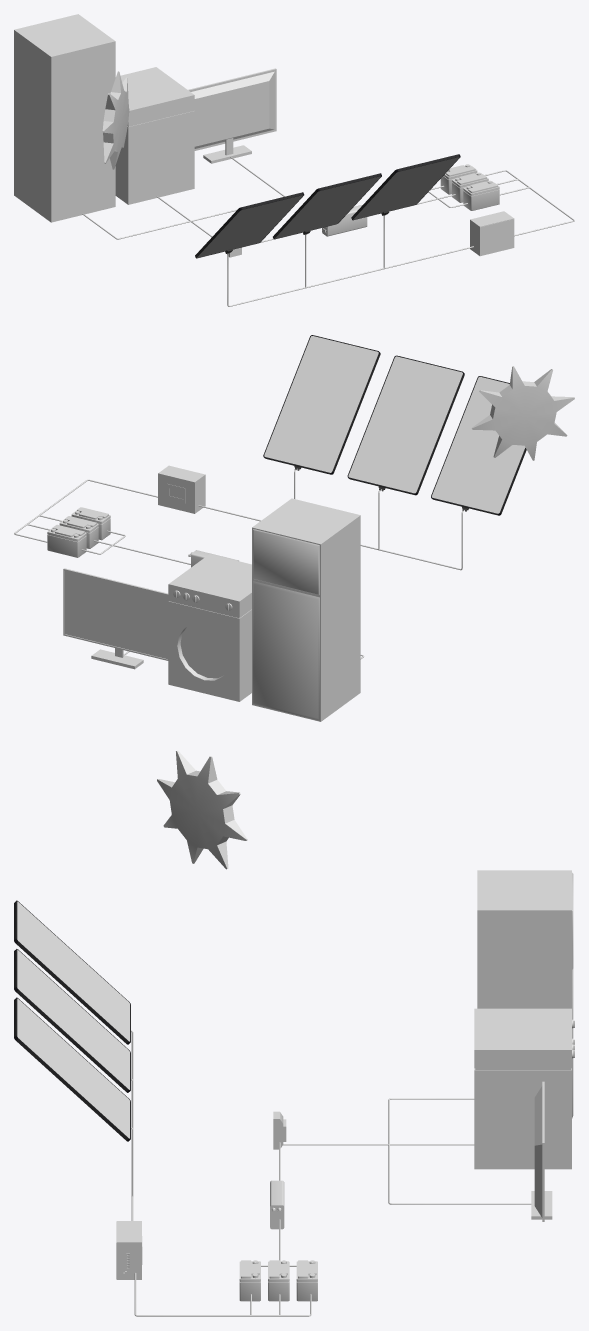
The model's file is Rangkaian Solar Panel.fbx.
3 renders of one model, top to bottom at view 1: azimuth 30°, elevation 25°; view 2: azimuth 150°, elevation 25°; view 3: azimuth 270°, elevation 25°, orthographic. The views are drawn at different scales.
Visible parts, largest first — view 1: Fridge, Washing_machine, TV, Back_Sheet_2, Back_Sheet_3, Back_Sheet, Cable, Sun, Controller, Batery_bank_3, Inverter_2, Cover_Solar_panel_3 (+5 smaller); view 2: Fridge, Washing_machine, Cover_Solar_panel_3, Cover_Solar_Panel_1, TV, Cover_Solar_Panel_2, Sun, Cover, Cable, Batery_bank_1, Batery_bank_3, Batery_bank_2; view 3: Washing_machine, Fridge, Sun, Cover_Solar_Panel_1, Cover_Solar_panel_3, Cover_Solar_Panel_2, Cable, TV, Controller, Batery_bank_2, Batery_bank_3, Batery_bank_1.
Boxes of the visible parts, x1,y1,x2,y2 form: Fridge: (14, 14, 115, 222); Washing_machine: (115, 67, 194, 204); TV: (188, 68, 276, 163); Back_Sheet_2: (197, 195, 303, 257); Back_Sheet_3: (275, 176, 380, 238); Back_Sheet: (353, 157, 459, 219); Cable: (82, 156, 574, 306); Sun: (102, 71, 129, 169); Controller: (470, 219, 514, 255); Batery_bank_3: (463, 180, 499, 210); Inverter_2: (328, 205, 366, 236); Cover_Solar_panel_3: (273, 173, 381, 239); Fridge: (252, 498, 360, 721); Washing_machine: (168, 554, 251, 701); Cover_Solar_panel_3: (347, 355, 464, 495); Cover_Solar_Panel_1: (263, 335, 380, 474); TV: (63, 568, 169, 669); Cover_Solar_Panel_2: (431, 376, 526, 515); Sun: (472, 366, 574, 460); Cover: (158, 465, 205, 513); Cable: (14, 469, 463, 659); Batery_bank_1: (47, 524, 86, 557); Batery_bank_3: (71, 507, 110, 540); Batery_bank_2: (59, 516, 98, 548); Washing_machine: (474, 1008, 574, 1169); Fridge: (477, 870, 573, 1118); Sun: (157, 750, 247, 869); Cover_Solar_Panel_1: (14, 997, 130, 1141); Cover_Solar_panel_3: (14, 949, 130, 1092); Cover_Solar_Panel_2: (14, 900, 130, 1044); Cable: (131, 1030, 531, 1316); TV: (531, 1081, 552, 1221); Controller: (116, 1222, 141, 1279); Batery_bank_2: (268, 1260, 289, 1301); Batery_bank_3: (239, 1260, 260, 1301); Batery_bank_1: (296, 1260, 317, 1301).
Bounding box in the file's own units: 358 × 176 × 295.
